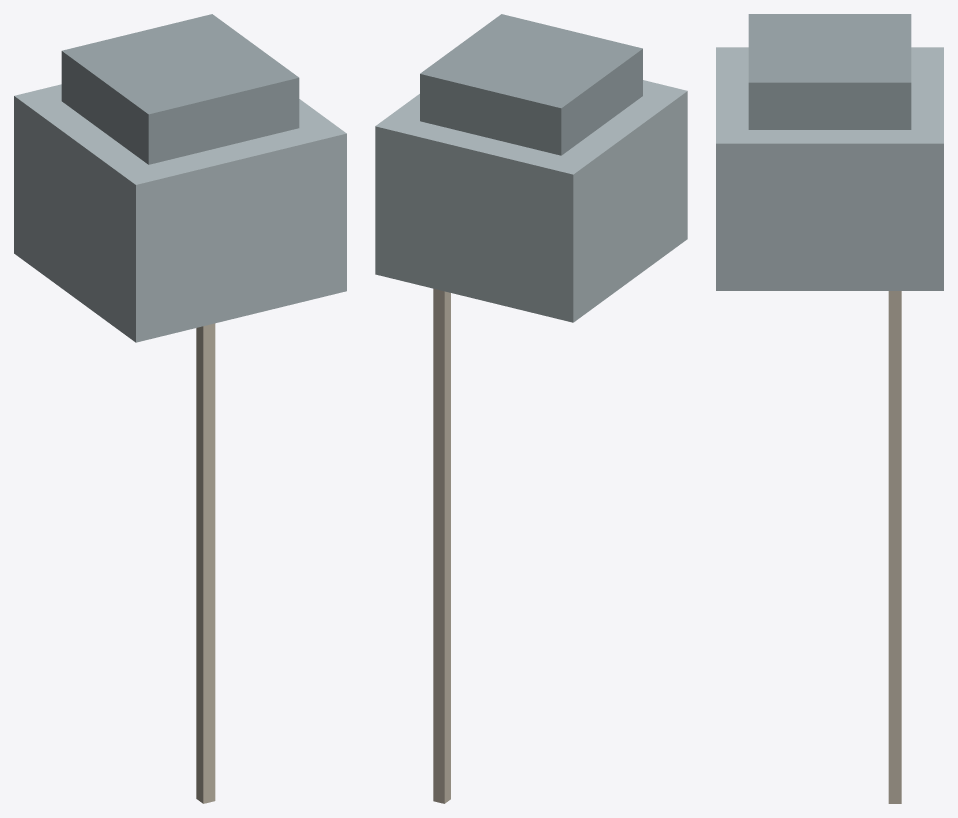
Rendered from structure.glb.
3 renders of one model, left to right at view 1: azimuth 30°, elevation 25°; view 2: azimuth 150°, elevation 25°; view 3: azimuth 270°, elevation 25°, orthographic. The views are drawn at different scales.
Visible parts, largest first — view 1: Box2, Box3, Box1; view 2: Box2, Box3, Box1; view 3: Box2, Box3, Box1.
Boxes of the visible parts, x1,y1,x2,y2 form: Box2: (14,84,346,342); Box3: (61,14,299,164); Box1: (196,323,215,803); Box2: (375,80,687,322); Box3: (420,14,642,155); Box1: (433,288,450,803); Box2: (716,47,943,290); Box3: (748,14,911,129); Box1: (888,291,901,803).
Bounding box in the file's own units: 7 × 24.6 × 7.
